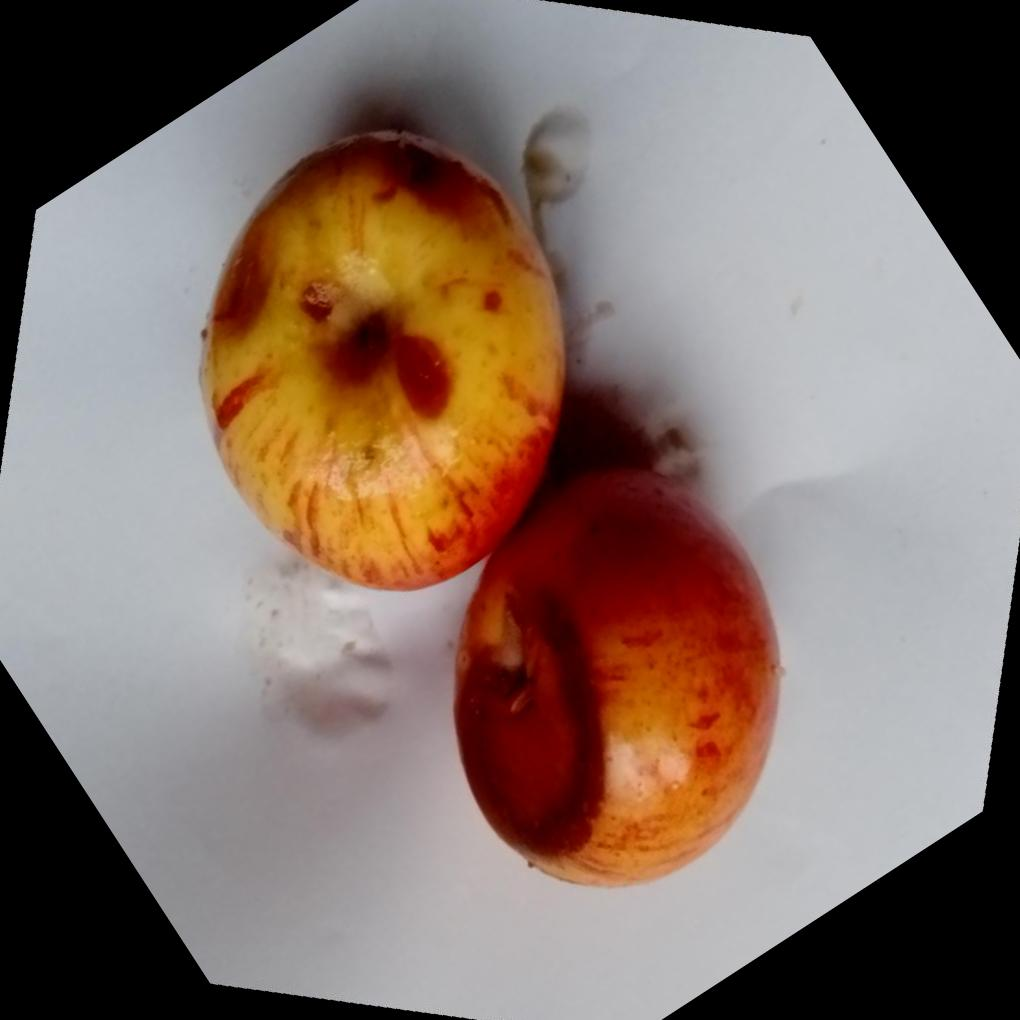FreshOrange: (198, 139, 781, 892)
